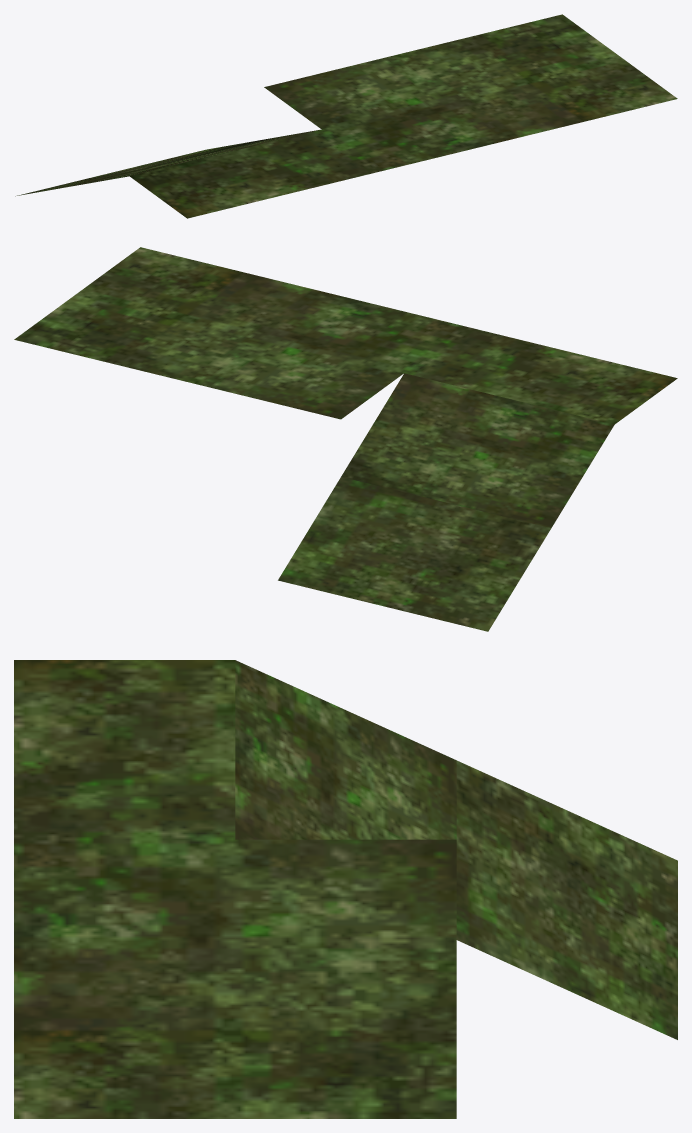
Rendered from OVERHILL_A_01_OBJECT116.fbx.
3 views of the same model, one above another, from view 1: azimuth 30°, elevation 25°; view 2: azimuth 150°, elevation 25°; view 3: azimuth 270°, elevation 25° (orthographic). The views are drawn at different scales.
Visible parts, largest first — view 1: OVERHILL_A_01_OBJECT116; view 2: OVERHILL_A_01_OBJECT116; view 3: OVERHILL_A_01_OBJECT116.
Boxes of the visible parts, x1=… form: OVERHILL_A_01_OBJECT116: x1=15, y1=14, x2=677, y2=218; OVERHILL_A_01_OBJECT116: x1=14, y1=247, x2=677, y2=631; OVERHILL_A_01_OBJECT116: x1=14, y1=660, x2=677, y2=1118.
Size of the model in its own units: 49061 by 10000 by 30000.
Materials: 1 (1 with a texture image).
